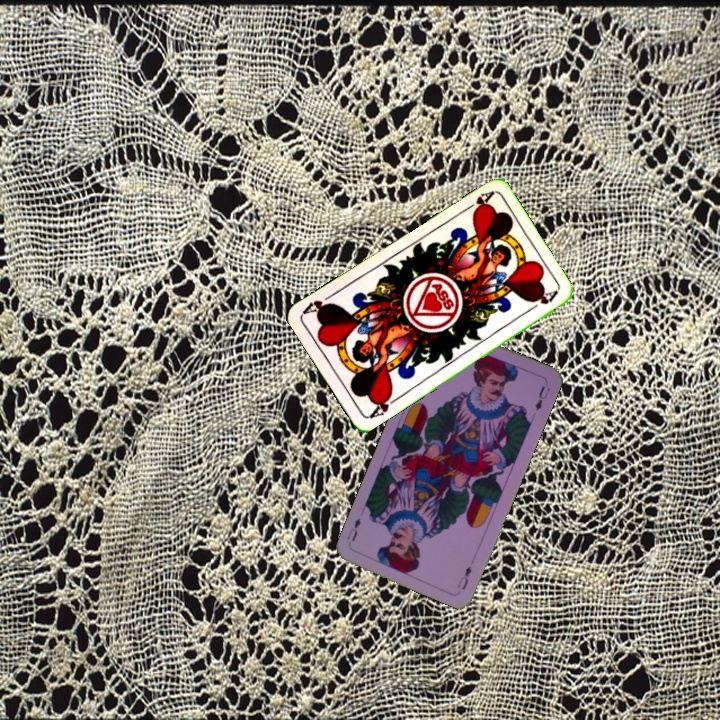EU: (453, 562, 474, 592)
HA: (365, 389, 401, 421), (458, 187, 496, 217)
